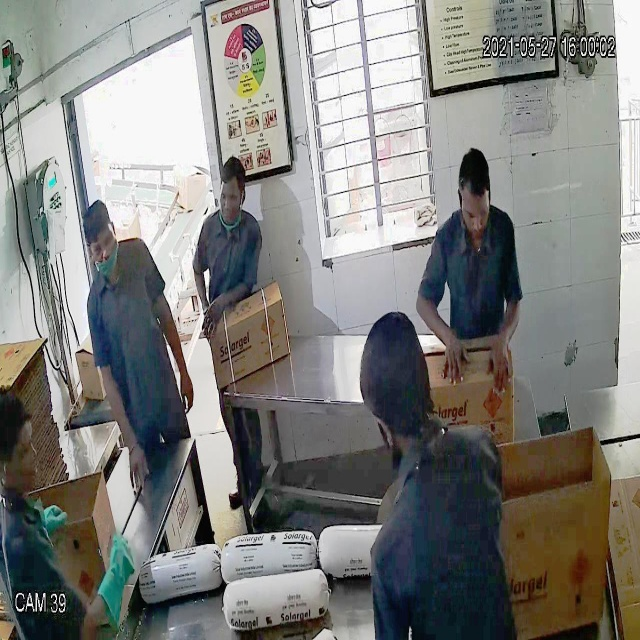Sin_gafas: (456, 189, 495, 228), (85, 228, 117, 259)
